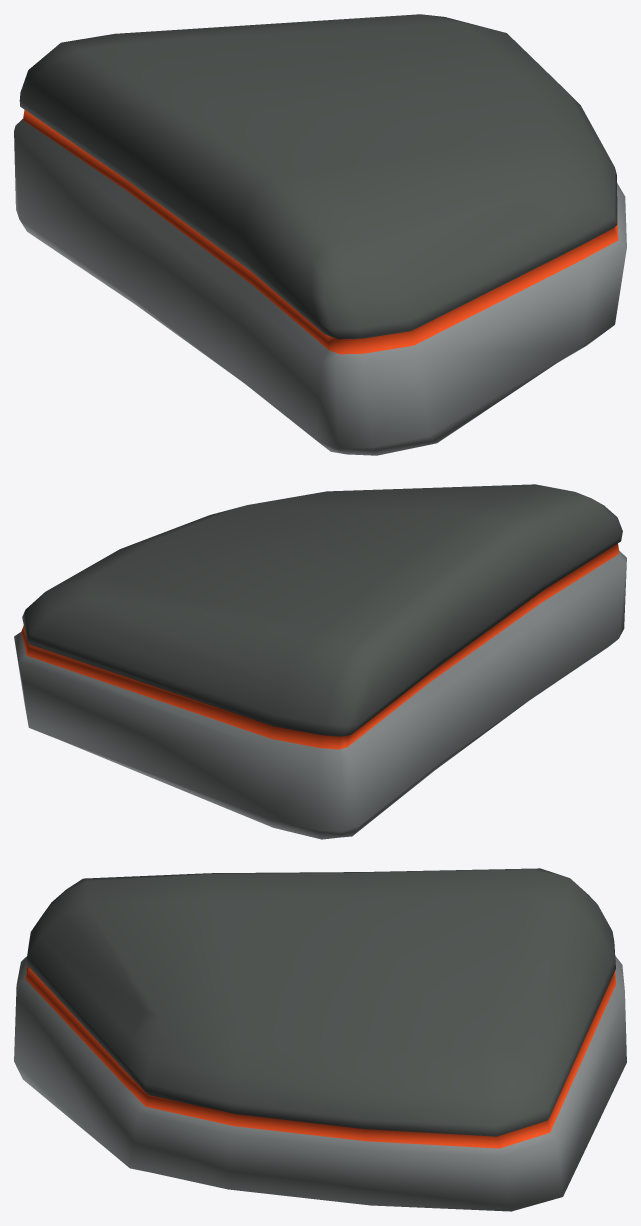
The model's file is xsens_RightToe.dae.
3 renders of one model, top to bottom at view 1: azimuth 30°, elevation 25°; view 2: azimuth 150°, elevation 25°; view 3: azimuth 270°, elevation 25°, orthographic. The views are drawn at different scales.
Visible parts, largest first — view 1: RightToe; view 2: RightToe; view 3: RightToe.
Boxes of the visible parts, bbox=[...] form: RightToe: bbox=[14, 14, 626, 455]; RightToe: bbox=[14, 484, 626, 839]; RightToe: bbox=[14, 868, 626, 1211].
Size of the model in its own units: 0.0675 by 0.0877 by 0.0292.
